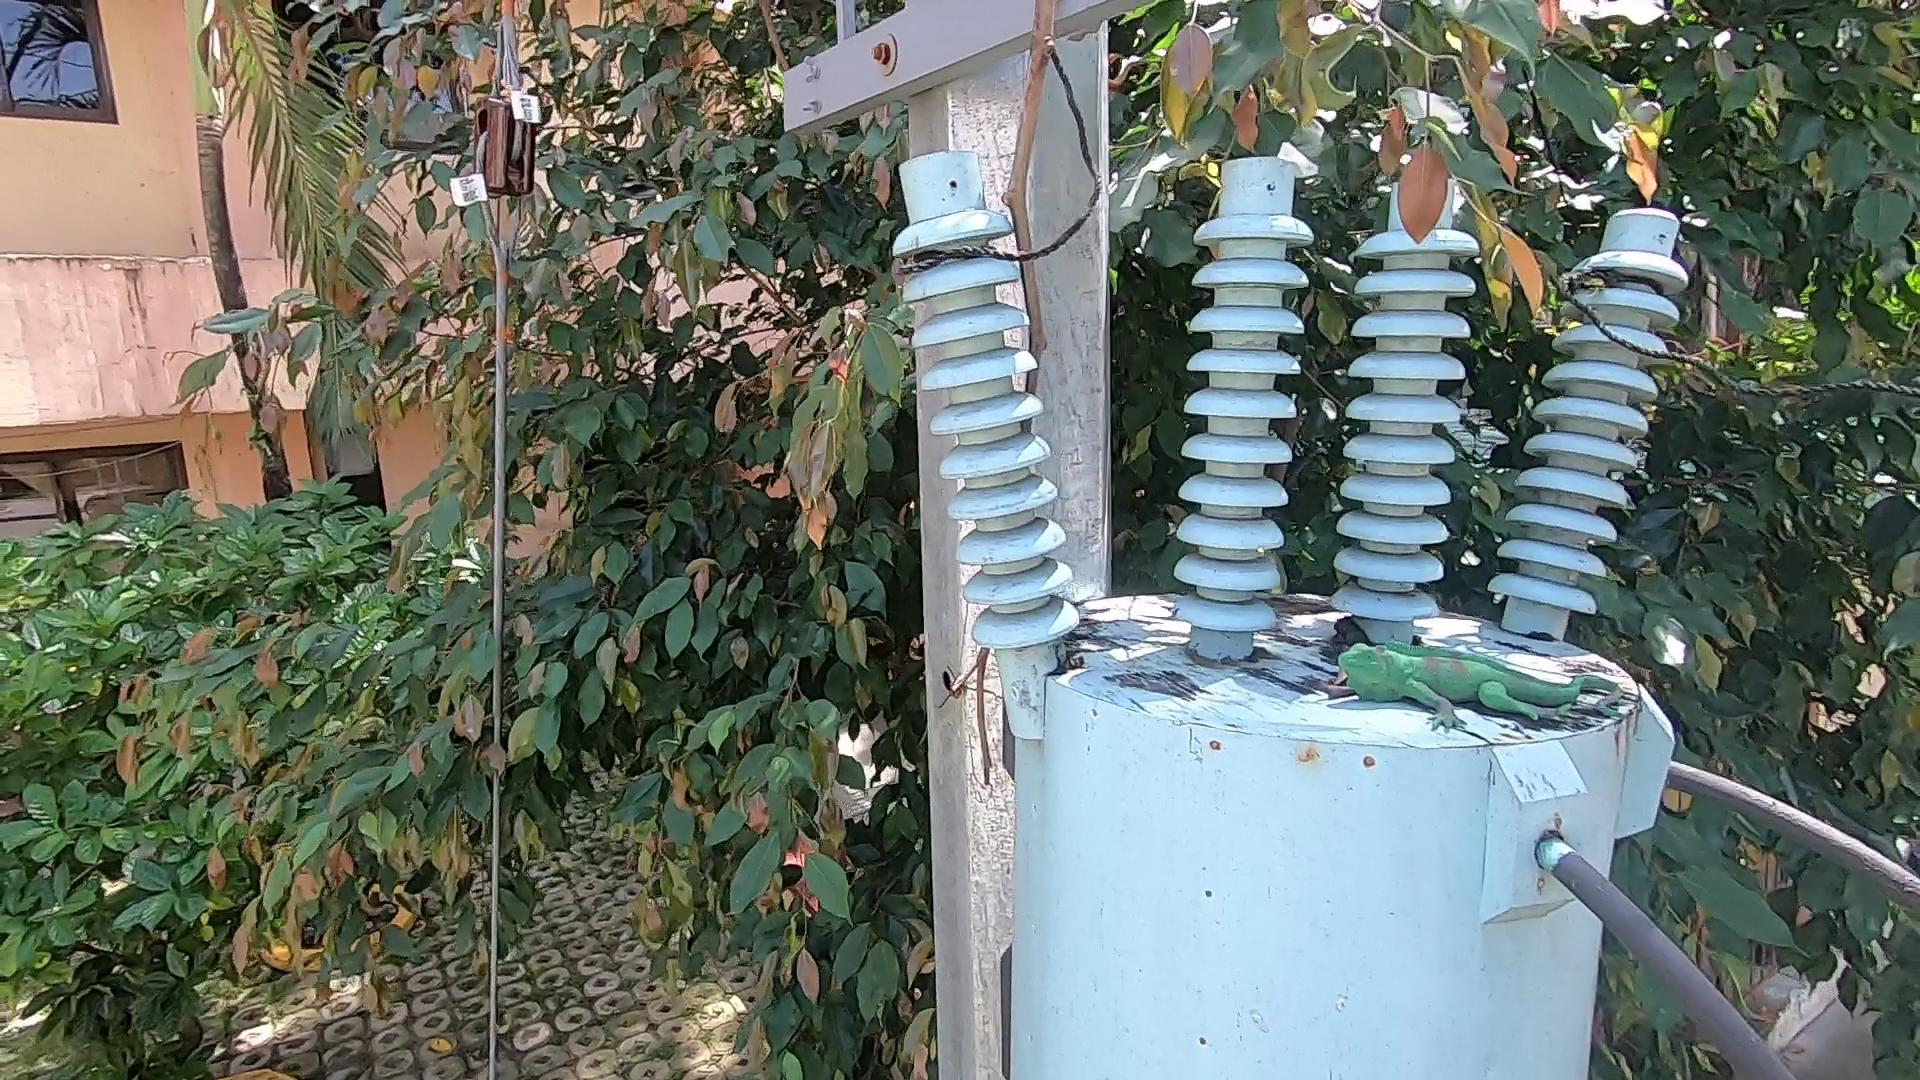branch with leaves: (1356, 46, 1586, 314)
leaf: (1323, 612, 1371, 657), (1051, 644, 1091, 678)
tree branch: (957, 9, 1065, 810)
